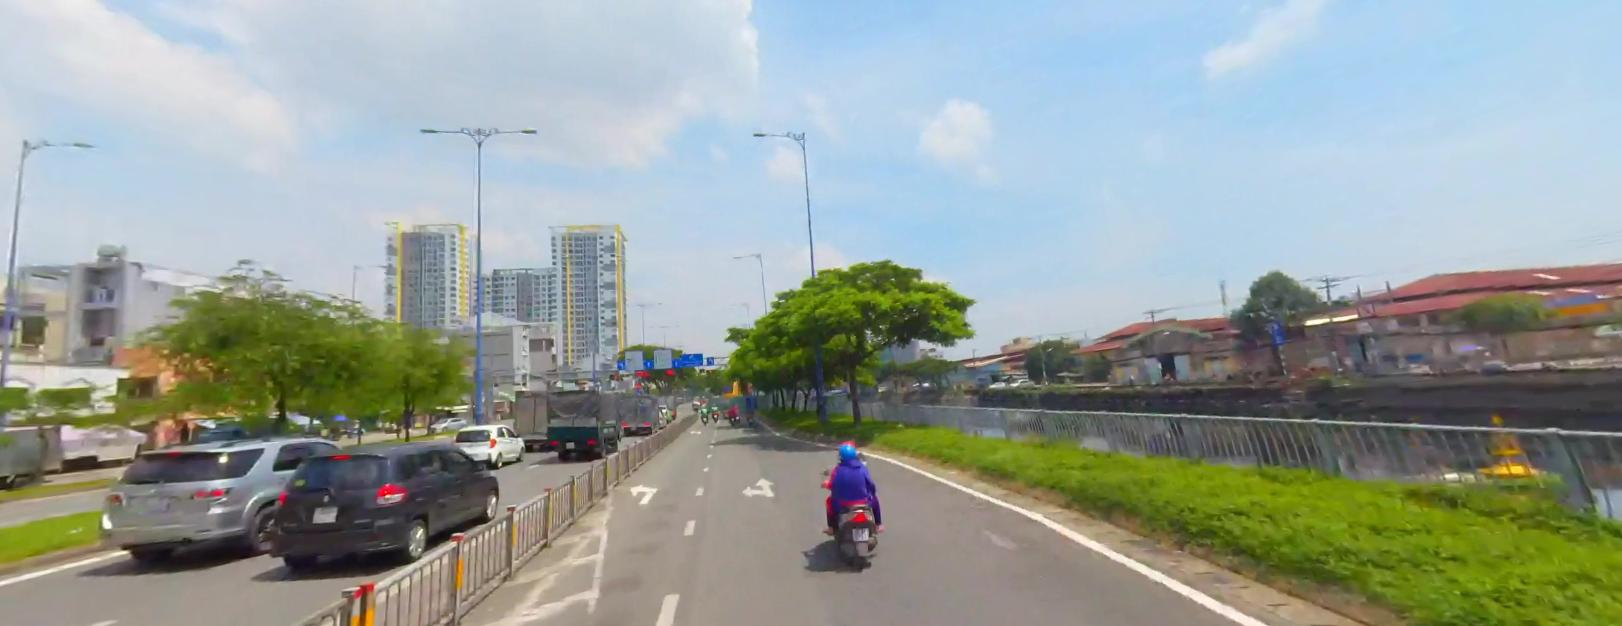Cam nguoc chieu: (633, 381, 641, 388)
Hieu lenh: (634, 389, 641, 396)
